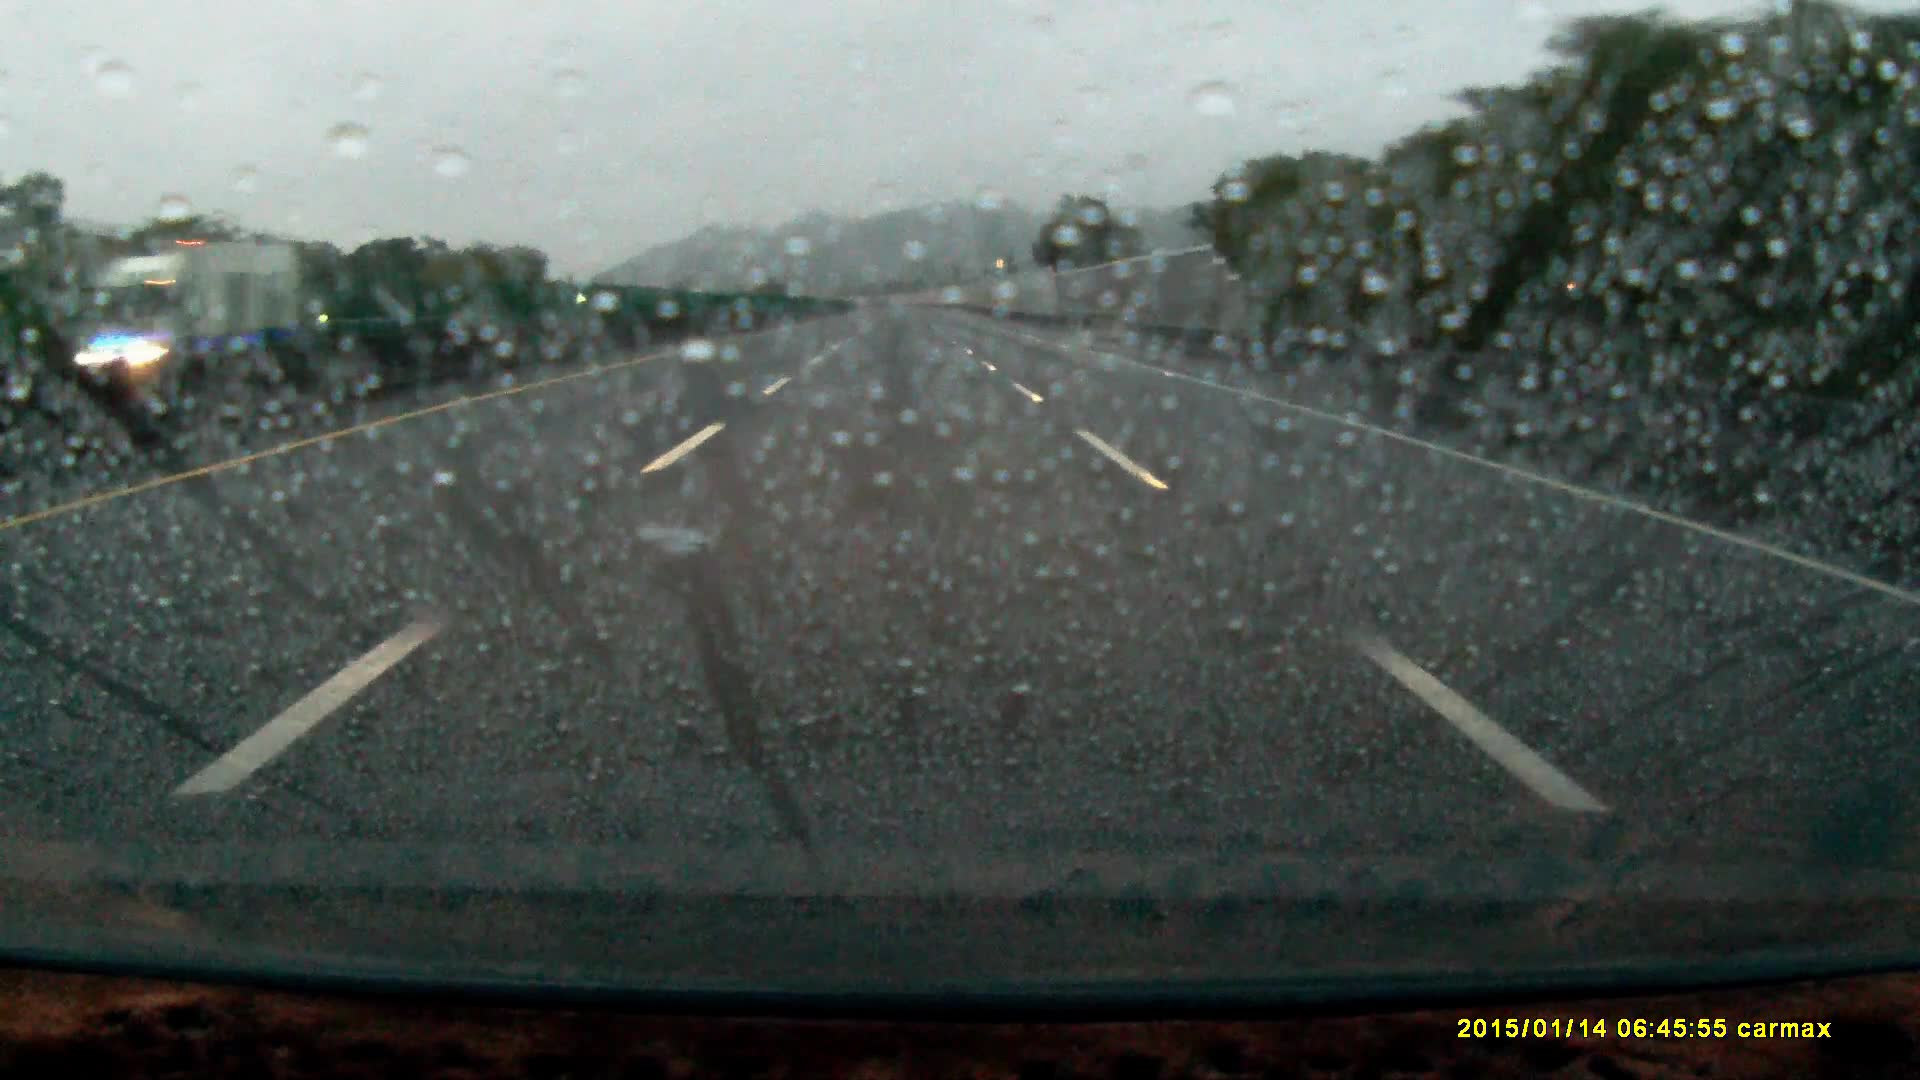vehicle: (70, 233, 310, 400)
